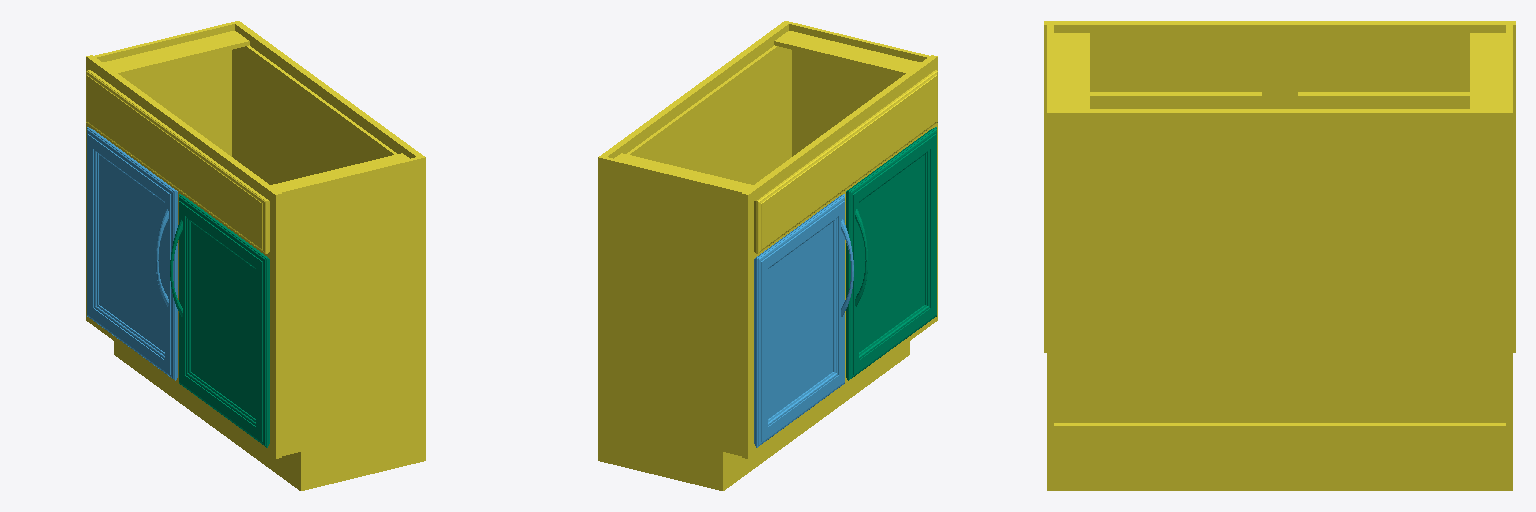
robot.urdf — partnet_3115a3a0a61aacac59350d819542ec7:
<?xml version="1.0" ?>
<robot name="partnet_3115a3a0a61aacac59350d819542ec7">
	<link name="base"/>
	<link name="link_0">
		<visual name="cabinet_door_surface-11">
			<origin xyz="0.6849369945283518 0.4971410036087036 -0.3456953636447484"/>
			<geometry>
				<mesh filename="textured_objs/original-45.obj"/>
			</geometry>
		</visual>
		<visual name="cabinet_door_surface-11">
			<origin xyz="0.6849369945283518 0.4971410036087036 -0.3456953636447484"/>
			<geometry>
				<mesh filename="textured_objs/original-47.obj"/>
			</geometry>
		</visual>
		<visual name="cabinet_door_surface-11">
			<origin xyz="0.6849369945283518 0.4971410036087036 -0.3456953636447484"/>
			<geometry>
				<mesh filename="textured_objs/original-40.obj"/>
			</geometry>
		</visual>
		<visual name="cabinet_door_surface-11">
			<origin xyz="0.6849369945283518 0.4971410036087036 -0.3456953636447484"/>
			<geometry>
				<mesh filename="textured_objs/original-42.obj"/>
			</geometry>
		</visual>
		<visual name="cabinet_door_surface-11">
			<origin xyz="0.6849369945283518 0.4971410036087036 -0.3456953636447484"/>
			<geometry>
				<mesh filename="textured_objs/original-46.obj"/>
			</geometry>
		</visual>
		<visual name="cabinet_door_surface-11">
			<origin xyz="0.6849369945283518 0.4971410036087036 -0.3456953636447484"/>
			<geometry>
				<mesh filename="textured_objs/original-39.obj"/>
			</geometry>
		</visual>
		<visual name="cabinet_door_surface-11">
			<origin xyz="0.6849369945283518 0.4971410036087036 -0.3456953636447484"/>
			<geometry>
				<mesh filename="textured_objs/original-37.obj"/>
			</geometry>
		</visual>
		<visual name="cabinet_door_surface-11">
			<origin xyz="0.6849369945283518 0.4971410036087036 -0.3456953636447484"/>
			<geometry>
				<mesh filename="textured_objs/original-41.obj"/>
			</geometry>
		</visual>
		<visual name="cabinet_door_surface-11">
			<origin xyz="0.6849369945283518 0.4971410036087036 -0.3456953636447484"/>
			<geometry>
				<mesh filename="textured_objs/original-38.obj"/>
			</geometry>
		</visual>
		<visual name="cabinet_door_surface-11">
			<origin xyz="0.6849369945283518 0.4971410036087036 -0.3456953636447484"/>
			<geometry>
				<mesh filename="textured_objs/original-44.obj"/>
			</geometry>
		</visual>
		<visual name="handle-12">
			<origin xyz="0.6849369945283518 0.4971410036087036 -0.3456953636447484"/>
			<geometry>
				<mesh filename="textured_objs/original-48.obj"/>
			</geometry>
		</visual>
		<collision>
			<origin xyz="0.6849369945283518 0.4971410036087036 -0.3456953636447484"/>
			<geometry>
				<mesh filename="textured_objs/original-45.obj"/>
			</geometry>
		</collision>
		<collision>
			<origin xyz="0.6849369945283518 0.4971410036087036 -0.3456953636447484"/>
			<geometry>
				<mesh filename="textured_objs/original-47.obj"/>
			</geometry>
		</collision>
		<collision>
			<origin xyz="0.6849369945283518 0.4971410036087036 -0.3456953636447484"/>
			<geometry>
				<mesh filename="textured_objs/original-40.obj"/>
			</geometry>
		</collision>
		<collision>
			<origin xyz="0.6849369945283518 0.4971410036087036 -0.3456953636447484"/>
			<geometry>
				<mesh filename="textured_objs/original-42.obj"/>
			</geometry>
		</collision>
		<collision>
			<origin xyz="0.6849369945283518 0.4971410036087036 -0.3456953636447484"/>
			<geometry>
				<mesh filename="textured_objs/original-46.obj"/>
			</geometry>
		</collision>
		<collision>
			<origin xyz="0.6849369945283518 0.4971410036087036 -0.3456953636447484"/>
			<geometry>
				<mesh filename="textured_objs/original-39.obj"/>
			</geometry>
		</collision>
		<collision>
			<origin xyz="0.6849369945283518 0.4971410036087036 -0.3456953636447484"/>
			<geometry>
				<mesh filename="textured_objs/original-37.obj"/>
			</geometry>
		</collision>
		<collision>
			<origin xyz="0.6849369945283518 0.4971410036087036 -0.3456953636447484"/>
			<geometry>
				<mesh filename="textured_objs/original-41.obj"/>
			</geometry>
		</collision>
		<collision>
			<origin xyz="0.6849369945283518 0.4971410036087036 -0.3456953636447484"/>
			<geometry>
				<mesh filename="textured_objs/original-38.obj"/>
			</geometry>
		</collision>
		<collision>
			<origin xyz="0.6849369945283518 0.4971410036087036 -0.3456953636447484"/>
			<geometry>
				<mesh filename="textured_objs/original-44.obj"/>
			</geometry>
		</collision>
		<collision>
			<origin xyz="0.6849369945283518 0.4971410036087036 -0.3456953636447484"/>
			<geometry>
				<mesh filename="textured_objs/original-48.obj"/>
			</geometry>
		</collision>
	</link>
	<joint name="joint_0" type="revolute">
		<origin xyz="-0.6849369945283518 -0.4971410036087036 0.3456953636447484"/>
		<axis xyz="0 -1 0"/>
		<child link="link_0"/>
		<parent link="link_2"/>
		<limit lower="0.0" upper="1.6399113651738721"/>
	</joint>
	<link name="link_1">
		<visual name="cabinet_door_surface-9">
			<origin xyz="-0.6905009497323268 -0.6374779939651488 -0.3429282138190328"/>
			<geometry>
				<mesh filename="textured_objs/original-57.obj"/>
			</geometry>
		</visual>
		<visual name="cabinet_door_surface-9">
			<origin xyz="-0.6905009497323268 -0.6374779939651488 -0.3429282138190328"/>
			<geometry>
				<mesh filename="textured_objs/original-55.obj"/>
			</geometry>
		</visual>
		<visual name="cabinet_door_surface-9">
			<origin xyz="-0.6905009497323268 -0.6374779939651488 -0.3429282138190328"/>
			<geometry>
				<mesh filename="textured_objs/original-50.obj"/>
			</geometry>
		</visual>
		<visual name="cabinet_door_surface-9">
			<origin xyz="-0.6905009497323268 -0.6374779939651488 -0.3429282138190328"/>
			<geometry>
				<mesh filename="textured_objs/original-59.obj"/>
			</geometry>
		</visual>
		<visual name="cabinet_door_surface-9">
			<origin xyz="-0.6905009497323268 -0.6374779939651488 -0.3429282138190328"/>
			<geometry>
				<mesh filename="textured_objs/original-52.obj"/>
			</geometry>
		</visual>
		<visual name="cabinet_door_surface-9">
			<origin xyz="-0.6905009497323268 -0.6374779939651488 -0.3429282138190328"/>
			<geometry>
				<mesh filename="textured_objs/original-54.obj"/>
			</geometry>
		</visual>
		<visual name="cabinet_door_surface-9">
			<origin xyz="-0.6905009497323268 -0.6374779939651488 -0.3429282138190328"/>
			<geometry>
				<mesh filename="textured_objs/original-53.obj"/>
			</geometry>
		</visual>
		<visual name="cabinet_door_surface-9">
			<origin xyz="-0.6905009497323268 -0.6374779939651488 -0.3429282138190328"/>
			<geometry>
				<mesh filename="textured_objs/original-60.obj"/>
			</geometry>
		</visual>
		<visual name="cabinet_door_surface-9">
			<origin xyz="-0.6905009497323268 -0.6374779939651488 -0.3429282138190328"/>
			<geometry>
				<mesh filename="textured_objs/original-51.obj"/>
			</geometry>
		</visual>
		<visual name="cabinet_door_surface-9">
			<origin xyz="-0.6905009497323268 -0.6374779939651488 -0.3429282138190328"/>
			<geometry>
				<mesh filename="textured_objs/original-58.obj"/>
			</geometry>
		</visual>
		<visual name="handle-10">
			<origin xyz="-0.6905009497323268 -0.6374779939651488 -0.3429282138190328"/>
			<geometry>
				<mesh filename="textured_objs/original-61.obj"/>
			</geometry>
		</visual>
		<collision>
			<origin xyz="-0.6905009497323268 -0.6374779939651488 -0.3429282138190328"/>
			<geometry>
				<mesh filename="textured_objs/original-57.obj"/>
			</geometry>
		</collision>
		<collision>
			<origin xyz="-0.6905009497323268 -0.6374779939651488 -0.3429282138190328"/>
			<geometry>
				<mesh filename="textured_objs/original-55.obj"/>
			</geometry>
		</collision>
		<collision>
			<origin xyz="-0.6905009497323268 -0.6374779939651488 -0.3429282138190328"/>
			<geometry>
				<mesh filename="textured_objs/original-50.obj"/>
			</geometry>
		</collision>
		<collision>
			<origin xyz="-0.6905009497323268 -0.6374779939651488 -0.3429282138190328"/>
			<geometry>
				<mesh filename="textured_objs/original-59.obj"/>
			</geometry>
		</collision>
		<collision>
			<origin xyz="-0.6905009497323268 -0.6374779939651488 -0.3429282138190328"/>
			<geometry>
				<mesh filename="textured_objs/original-52.obj"/>
			</geometry>
		</collision>
		<collision>
			<origin xyz="-0.6905009497323268 -0.6374779939651488 -0.3429282138190328"/>
			<geometry>
				<mesh filename="textured_objs/original-54.obj"/>
			</geometry>
		</collision>
		<collision>
			<origin xyz="-0.6905009497323268 -0.6374779939651488 -0.3429282138190328"/>
			<geometry>
				<mesh filename="textured_objs/original-53.obj"/>
			</geometry>
		</collision>
		<collision>
			<origin xyz="-0.6905009497323268 -0.6374779939651488 -0.3429282138190328"/>
			<geometry>
				<mesh filename="textured_objs/original-60.obj"/>
			</geometry>
		</collision>
		<collision>
			<origin xyz="-0.6905009497323268 -0.6374779939651488 -0.3429282138190328"/>
			<geometry>
				<mesh filename="textured_objs/original-51.obj"/>
			</geometry>
		</collision>
		<collision>
			<origin xyz="-0.6905009497323268 -0.6374779939651488 -0.3429282138190328"/>
			<geometry>
				<mesh filename="textured_objs/original-58.obj"/>
			</geometry>
		</collision>
		<collision>
			<origin xyz="-0.6905009497323268 -0.6374779939651488 -0.3429282138190328"/>
			<geometry>
				<mesh filename="textured_objs/original-61.obj"/>
			</geometry>
		</collision>
	</link>
	<joint name="joint_1" type="revolute">
		<origin xyz="0.6905009497323268 0.6374779939651488 0.3429282138190328"/>
		<axis xyz="0 1 0"/>
		<child link="link_1"/>
		<parent link="link_2"/>
		<limit lower="0.0" upper="1.6399113651738721"/>
	</joint>
	<link name="link_2">
		<visual name="vertical_side_panel-18">
			<origin xyz="0 0 0"/>
			<geometry>
				<mesh filename="textured_objs/original-11.obj"/>
			</geometry>
		</visual>
		<visual name="vertical_side_panel-18">
			<origin xyz="0 0 0"/>
			<geometry>
				<mesh filename="textured_objs/original-10.obj"/>
			</geometry>
		</visual>
		<visual name="vertical_side_panel-19">
			<origin xyz="0 0 0"/>
			<geometry>
				<mesh filename="textured_objs/original-15.obj"/>
			</geometry>
		</visual>
		<visual name="vertical_side_panel-19">
			<origin xyz="0 0 0"/>
			<geometry>
				<mesh filename="textured_objs/original-14.obj"/>
			</geometry>
		</visual>
		<visual name="back_panel-20">
			<origin xyz="0 0 0"/>
			<geometry>
				<mesh filename="textured_objs/original-5.obj"/>
			</geometry>
		</visual>
		<visual name="bottom_panel-21">
			<origin xyz="0 0 0"/>
			<geometry>
				<mesh filename="textured_objs/original-2.obj"/>
			</geometry>
		</visual>
		<visual name="frame_vertical_bar-22">
			<origin xyz="0 0 0"/>
			<geometry>
				<mesh filename="textured_objs/original-3.obj"/>
			</geometry>
		</visual>
		<visual name="frame_vertical_bar-23">
			<origin xyz="0 0 0"/>
			<geometry>
				<mesh filename="textured_objs/original-7.obj"/>
			</geometry>
		</visual>
		<visual name="frame_horizontal_bar-24">
			<origin xyz="0 0 0"/>
			<geometry>
				<mesh filename="textured_objs/original-22.obj"/>
			</geometry>
		</visual>
		<visual name="frame_horizontal_bar-25">
			<origin xyz="0 0 0"/>
			<geometry>
				<mesh filename="textured_objs/original-21.obj"/>
			</geometry>
		</visual>
		<visual name="frame_horizontal_bar-26">
			<origin xyz="0 0 0"/>
			<geometry>
				<mesh filename="textured_objs/original-4.obj"/>
			</geometry>
		</visual>
		<visual name="frame_horizontal_bar-27">
			<origin xyz="0 0 0"/>
			<geometry>
				<mesh filename="textured_objs/original-8.obj"/>
			</geometry>
		</visual>
		<visual name="frame_horizontal_bar-28">
			<origin xyz="0 0 0"/>
			<geometry>
				<mesh filename="textured_objs/original-6.obj"/>
			</geometry>
		</visual>
		<visual name="frame_horizontal_bar-29">
			<origin xyz="0 0 0"/>
			<geometry>
				<mesh filename="textured_objs/original-18.obj"/>
			</geometry>
		</visual>
		<visual name="frame_vertical_bar-30">
			<origin xyz="0 0 0"/>
			<geometry>
				<mesh filename="textured_objs/original-17.obj"/>
			</geometry>
		</visual>
		<visual name="frame_vertical_bar-30">
			<origin xyz="0 0 0"/>
			<geometry>
				<mesh filename="textured_objs/original-23.obj"/>
			</geometry>
		</visual>
		<visual name="other_leaf-32">
			<origin xyz="0 0 0"/>
			<geometry>
				<mesh filename="textured_objs/original-62.obj"/>
			</geometry>
		</visual>
		<visual name="vertical_front_panel-33">
			<origin xyz="0 0 0"/>
			<geometry>
				<mesh filename="textured_objs/original-31.obj"/>
			</geometry>
		</visual>
		<visual name="vertical_front_panel-33">
			<origin xyz="0 0 0"/>
			<geometry>
				<mesh filename="textured_objs/original-34.obj"/>
			</geometry>
		</visual>
		<visual name="vertical_front_panel-33">
			<origin xyz="0 0 0"/>
			<geometry>
				<mesh filename="textured_objs/original-33.obj"/>
			</geometry>
		</visual>
		<visual name="vertical_front_panel-33">
			<origin xyz="0 0 0"/>
			<geometry>
				<mesh filename="textured_objs/original-26.obj"/>
			</geometry>
		</visual>
		<visual name="vertical_front_panel-33">
			<origin xyz="0 0 0"/>
			<geometry>
				<mesh filename="textured_objs/original-32.obj"/>
			</geometry>
		</visual>
		<visual name="vertical_front_panel-33">
			<origin xyz="0 0 0"/>
			<geometry>
				<mesh filename="textured_objs/original-25.obj"/>
			</geometry>
		</visual>
		<visual name="vertical_front_panel-33">
			<origin xyz="0 0 0"/>
			<geometry>
				<mesh filename="textured_objs/original-35.obj"/>
			</geometry>
		</visual>
		<visual name="vertical_front_panel-33">
			<origin xyz="0 0 0"/>
			<geometry>
				<mesh filename="textured_objs/original-28.obj"/>
			</geometry>
		</visual>
		<visual name="vertical_front_panel-33">
			<origin xyz="0 0 0"/>
			<geometry>
				<mesh filename="textured_objs/original-27.obj"/>
			</geometry>
		</visual>
		<visual name="vertical_front_panel-33">
			<origin xyz="0 0 0"/>
			<geometry>
				<mesh filename="textured_objs/original-30.obj"/>
			</geometry>
		</visual>
		<visual name="base_side_panel-14">
			<origin xyz="0 0 0"/>
			<geometry>
				<mesh filename="textured_objs/original-16.obj"/>
			</geometry>
		</visual>
		<visual name="base_side_panel-15">
			<origin xyz="0 0 0"/>
			<geometry>
				<mesh filename="textured_objs/original-19.obj"/>
			</geometry>
		</visual>
		<visual name="base_side_panel-16">
			<origin xyz="0 0 0"/>
			<geometry>
				<mesh filename="textured_objs/original-12.obj"/>
			</geometry>
		</visual>
		<visual name="base_side_panel-17">
			<origin xyz="0 0 0"/>
			<geometry>
				<mesh filename="textured_objs/original-20.obj"/>
			</geometry>
		</visual>
		<collision>
			<origin xyz="0 0 0"/>
			<geometry>
				<mesh filename="textured_objs/original-11.obj"/>
			</geometry>
		</collision>
		<collision>
			<origin xyz="0 0 0"/>
			<geometry>
				<mesh filename="textured_objs/original-10.obj"/>
			</geometry>
		</collision>
		<collision>
			<origin xyz="0 0 0"/>
			<geometry>
				<mesh filename="textured_objs/original-15.obj"/>
			</geometry>
		</collision>
		<collision>
			<origin xyz="0 0 0"/>
			<geometry>
				<mesh filename="textured_objs/original-14.obj"/>
			</geometry>
		</collision>
		<collision>
			<origin xyz="0 0 0"/>
			<geometry>
				<mesh filename="textured_objs/original-5.obj"/>
			</geometry>
		</collision>
		<collision>
			<origin xyz="0 0 0"/>
			<geometry>
				<mesh filename="textured_objs/original-2.obj"/>
			</geometry>
		</collision>
		<collision>
			<origin xyz="0 0 0"/>
			<geometry>
				<mesh filename="textured_objs/original-3.obj"/>
			</geometry>
		</collision>
		<collision>
			<origin xyz="0 0 0"/>
			<geometry>
				<mesh filename="textured_objs/original-7.obj"/>
			</geometry>
		</collision>
		<collision>
			<origin xyz="0 0 0"/>
			<geometry>
				<mesh filename="textured_objs/original-22.obj"/>
			</geometry>
		</collision>
		<collision>
			<origin xyz="0 0 0"/>
			<geometry>
				<mesh filename="textured_objs/original-21.obj"/>
			</geometry>
		</collision>
		<collision>
			<origin xyz="0 0 0"/>
			<geometry>
				<mesh filename="textured_objs/original-4.obj"/>
			</geometry>
		</collision>
		<collision>
			<origin xyz="0 0 0"/>
			<geometry>
				<mesh filename="textured_objs/original-8.obj"/>
			</geometry>
		</collision>
		<collision>
			<origin xyz="0 0 0"/>
			<geometry>
				<mesh filename="textured_objs/original-6.obj"/>
			</geometry>
		</collision>
		<collision>
			<origin xyz="0 0 0"/>
			<geometry>
				<mesh filename="textured_objs/original-18.obj"/>
			</geometry>
		</collision>
		<collision>
			<origin xyz="0 0 0"/>
			<geometry>
				<mesh filename="textured_objs/original-17.obj"/>
			</geometry>
		</collision>
		<collision>
			<origin xyz="0 0 0"/>
			<geometry>
				<mesh filename="textured_objs/original-23.obj"/>
			</geometry>
		</collision>
		<collision>
			<origin xyz="0 0 0"/>
			<geometry>
				<mesh filename="textured_objs/original-62.obj"/>
			</geometry>
		</collision>
		<collision>
			<origin xyz="0 0 0"/>
			<geometry>
				<mesh filename="textured_objs/original-31.obj"/>
			</geometry>
		</collision>
		<collision>
			<origin xyz="0 0 0"/>
			<geometry>
				<mesh filename="textured_objs/original-34.obj"/>
			</geometry>
		</collision>
		<collision>
			<origin xyz="0 0 0"/>
			<geometry>
				<mesh filename="textured_objs/original-33.obj"/>
			</geometry>
		</collision>
		<collision>
			<origin xyz="0 0 0"/>
			<geometry>
				<mesh filename="textured_objs/original-26.obj"/>
			</geometry>
		</collision>
		<collision>
			<origin xyz="0 0 0"/>
			<geometry>
				<mesh filename="textured_objs/original-32.obj"/>
			</geometry>
		</collision>
		<collision>
			<origin xyz="0 0 0"/>
			<geometry>
				<mesh filename="textured_objs/original-25.obj"/>
			</geometry>
		</collision>
		<collision>
			<origin xyz="0 0 0"/>
			<geometry>
				<mesh filename="textured_objs/original-35.obj"/>
			</geometry>
		</collision>
		<collision>
			<origin xyz="0 0 0"/>
			<geometry>
				<mesh filename="textured_objs/original-28.obj"/>
			</geometry>
		</collision>
		<collision>
			<origin xyz="0 0 0"/>
			<geometry>
				<mesh filename="textured_objs/original-27.obj"/>
			</geometry>
		</collision>
		<collision>
			<origin xyz="0 0 0"/>
			<geometry>
				<mesh filename="textured_objs/original-30.obj"/>
			</geometry>
		</collision>
		<collision>
			<origin xyz="0 0 0"/>
			<geometry>
				<mesh filename="textured_objs/original-16.obj"/>
			</geometry>
		</collision>
		<collision>
			<origin xyz="0 0 0"/>
			<geometry>
				<mesh filename="textured_objs/original-19.obj"/>
			</geometry>
		</collision>
		<collision>
			<origin xyz="0 0 0"/>
			<geometry>
				<mesh filename="textured_objs/original-12.obj"/>
			</geometry>
		</collision>
		<collision>
			<origin xyz="0 0 0"/>
			<geometry>
				<mesh filename="textured_objs/original-20.obj"/>
			</geometry>
		</collision>
	</link>
	<joint name="joint_2" type="fixed">
		<origin rpy="1.570796326794897 0 -1.570796326794897" xyz="0 0 0"/>
		<child link="link_2"/>
		<parent link="base"/>
	</joint>
</robot>

--- Render facts (derived) ---
Views: 3 orthographic renders of the robot side by side, from view 1: azimuth 30°, elevation 25°; view 2: azimuth 150°, elevation 25°; view 3: azimuth 270°, elevation 25°.
Robot: partnet_3115a3a0a61aacac59350d819542ec7 — 4 links, 3 joints (2 revolute, 1 fixed); root link base; default pose: every joint at zero.
Visible links, largest first — view 1: link_2, link_1, link_0; view 2: link_2, link_0, link_1; view 3: link_2.
Boxes of the visible links, left/top/right/bottom form: link_2: left=86, top=21, right=425, bottom=490; link_1: left=170, top=194, right=269, bottom=447; link_0: left=87, top=127, right=177, bottom=380; link_2: left=598, top=21, right=937, bottom=490; link_0: left=754, top=194, right=853, bottom=447; link_1: left=846, top=127, right=936, bottom=380; link_2: left=1044, top=21, right=1515, bottom=490.
Size in the robot's own frame: 0.7611 by 1.48 by 1.3 metres.
Meshes: 53 distinct files referenced, 53 mesh visuals loaded (53 OBJ).